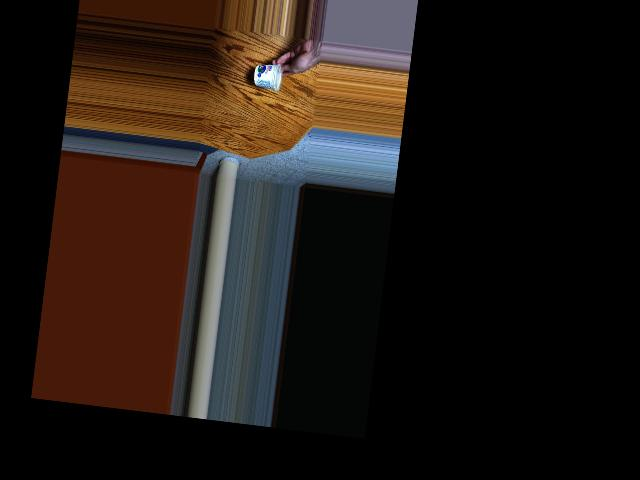cotage: (253, 59, 284, 94)
